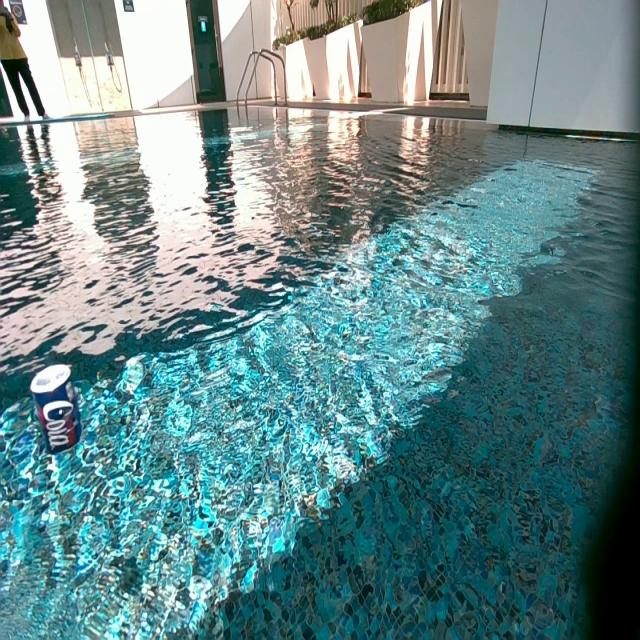Cans: (29, 359, 81, 424)
